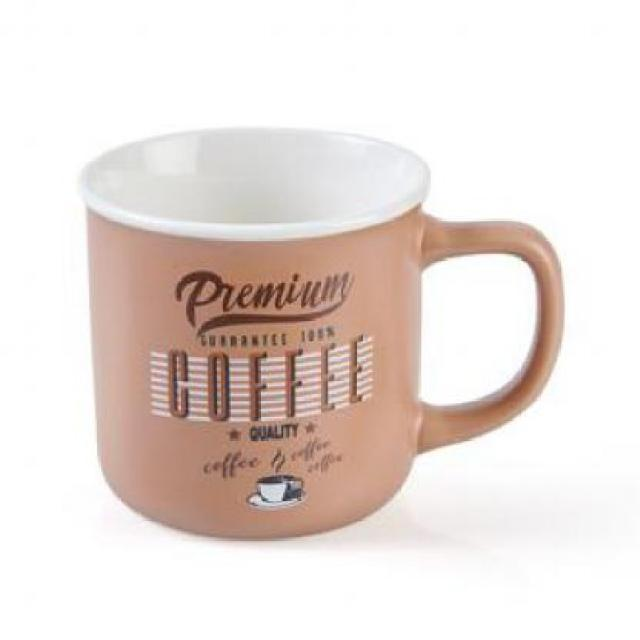taza: (80, 126, 564, 540)
